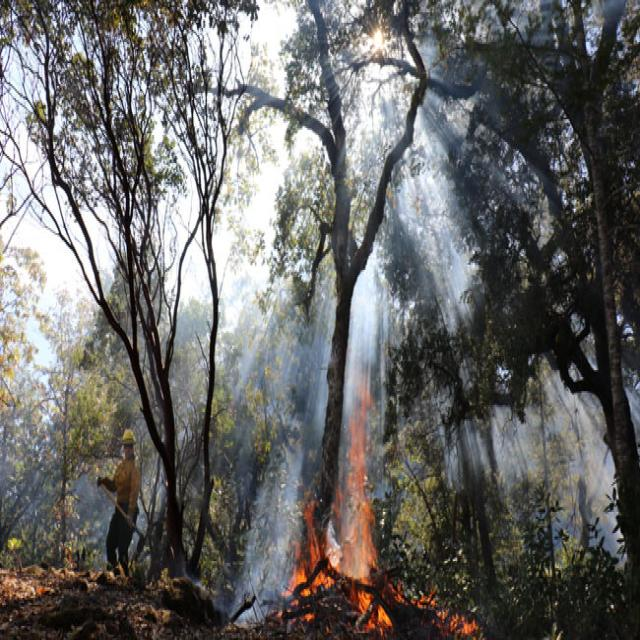fire: (282, 519, 391, 632), (348, 387, 374, 514)
